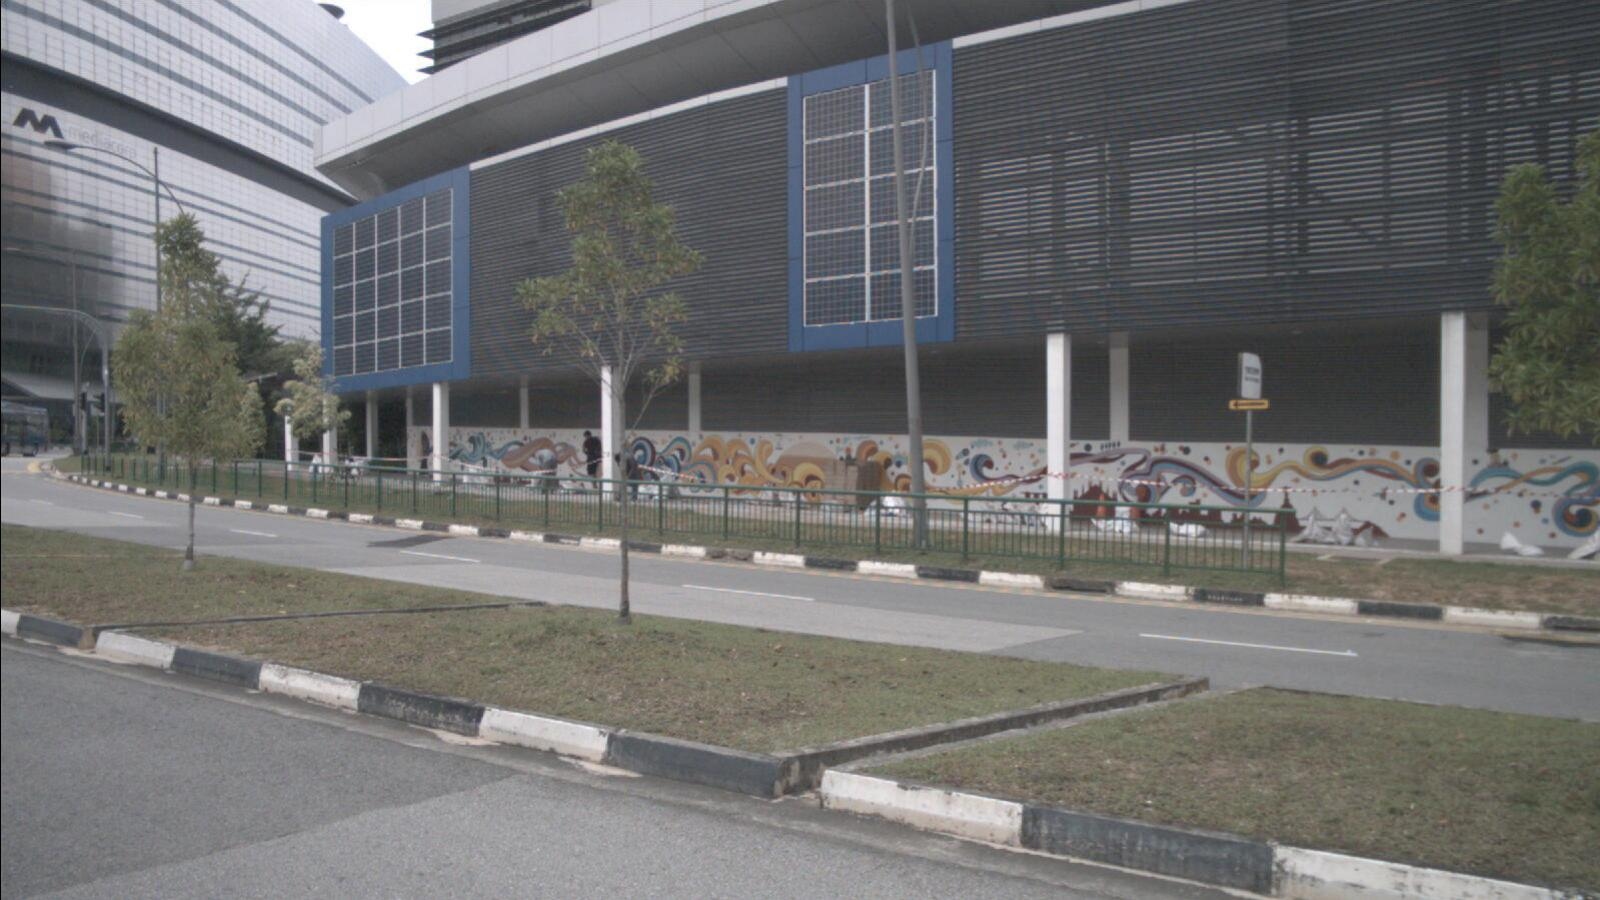human.pedestrian.adult-pedestrian.moving: (613, 452, 640, 506), (582, 430, 603, 493), (531, 448, 558, 496)
